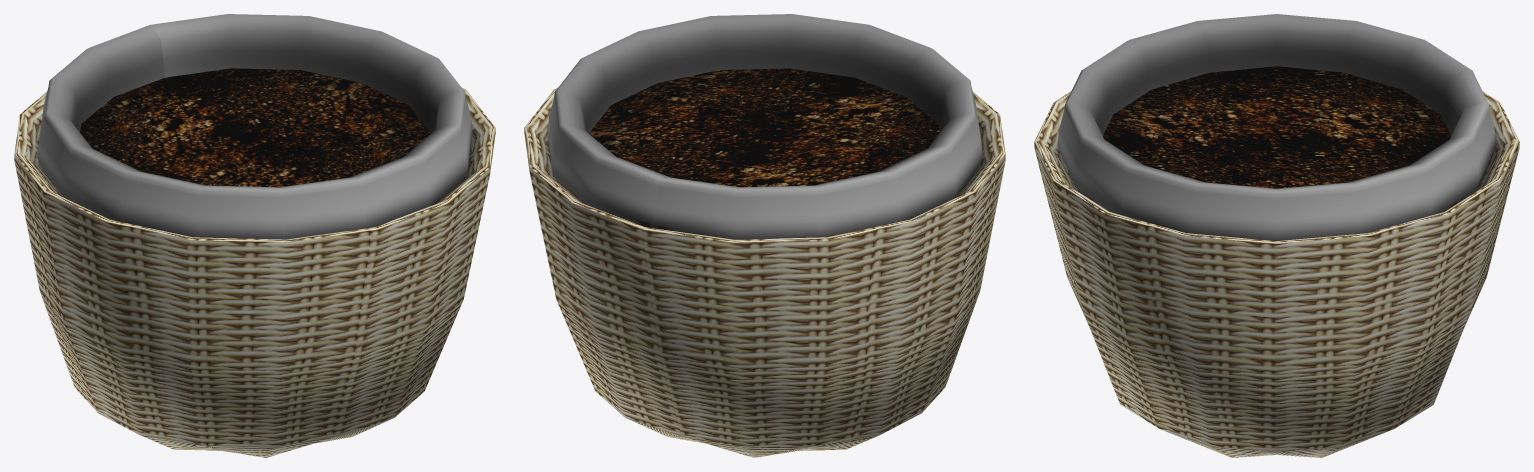
3 renders of one model, left to right at view 1: azimuth 30°, elevation 25°; view 2: azimuth 150°, elevation 25°; view 3: azimuth 270°, elevation 25°, orthographic.
Visible parts, largest first — view 1: _Platpot_6_0; view 2: _Platpot_6_0; view 3: _Platpot_6_0.
Part boxes in pixels (x1,y1,x2,y2): _Platpot_6_0: (14, 14, 495, 457); _Platpot_6_0: (524, 14, 1005, 457); _Platpot_6_0: (1034, 14, 1519, 457).
Bounding box in the file's own units: 187 × 130 × 187.
